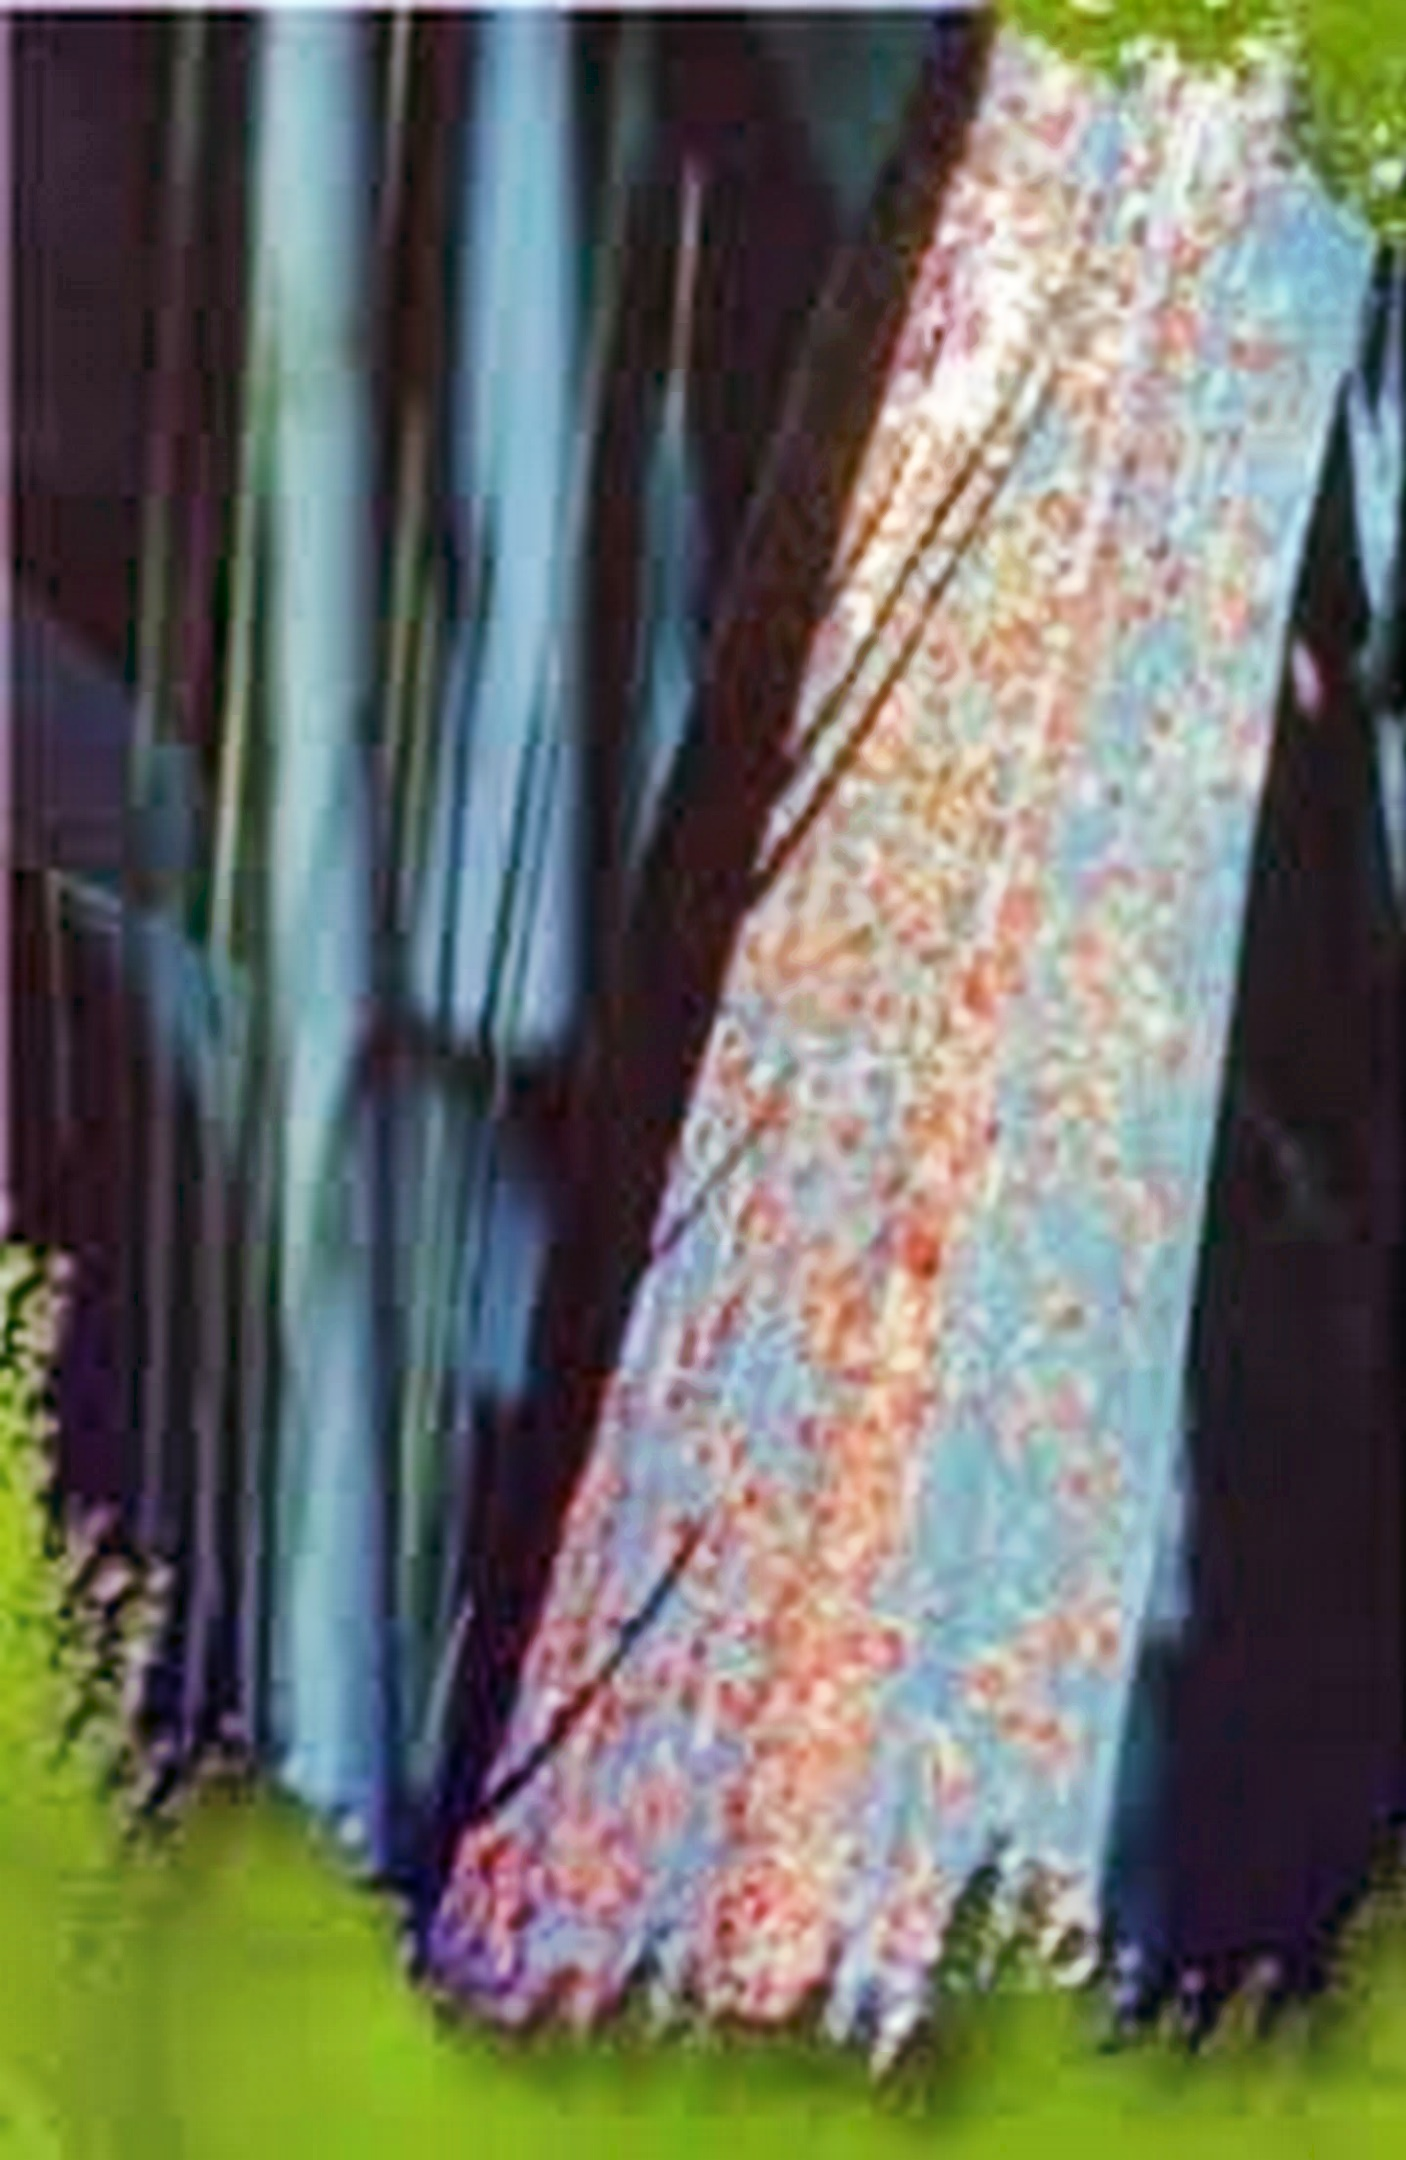Leaf Rust: (611, 874, 1189, 1741)
